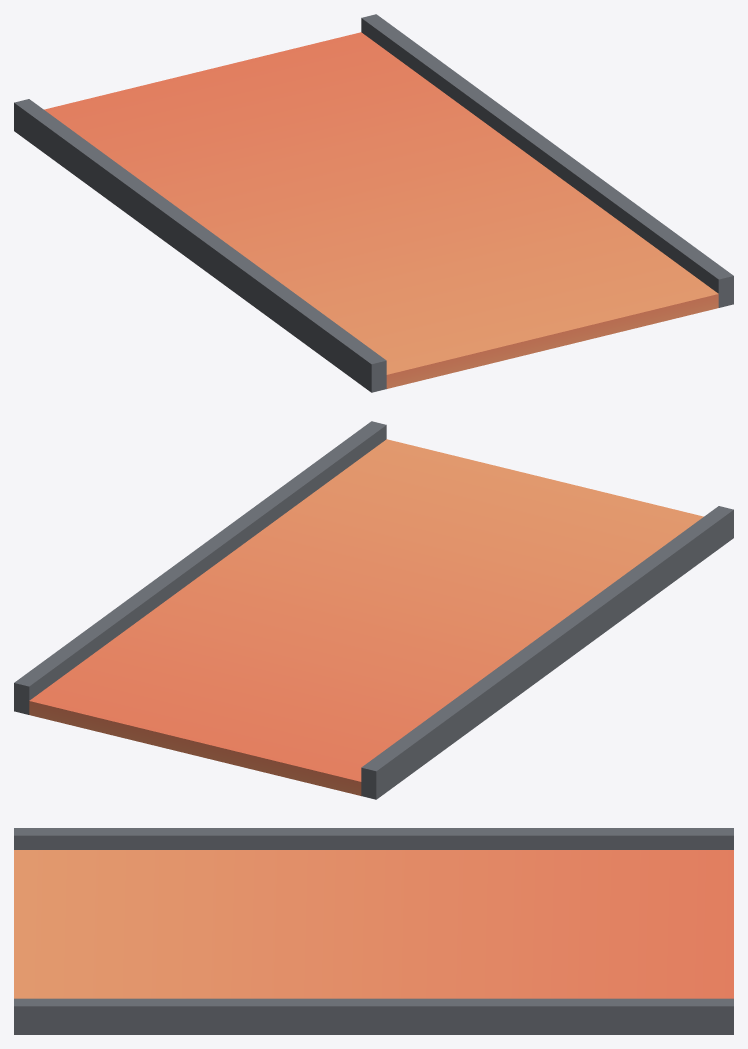
The model's file is road.fbx.
The picture shows the model from 3 angles, top to bottom: view 1: azimuth 30°, elevation 25°; view 2: azimuth 150°, elevation 25°; view 3: azimuth 270°, elevation 25°; orthographic projection.
Visible parts, largest first — view 1: road; view 2: road; view 3: road.
Part boxes in pixels (bbox=[...]): road: bbox=[14, 14, 733, 392]; road: bbox=[14, 421, 733, 799]; road: bbox=[14, 828, 733, 1034].
Bounding box in the file's own units: 642 × 48.19 × 1097.
